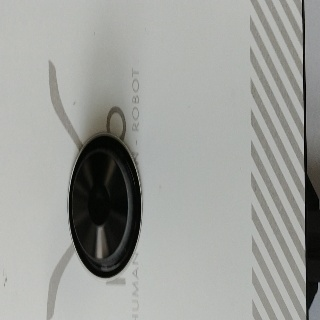capsule_10: (67, 131, 143, 279)
